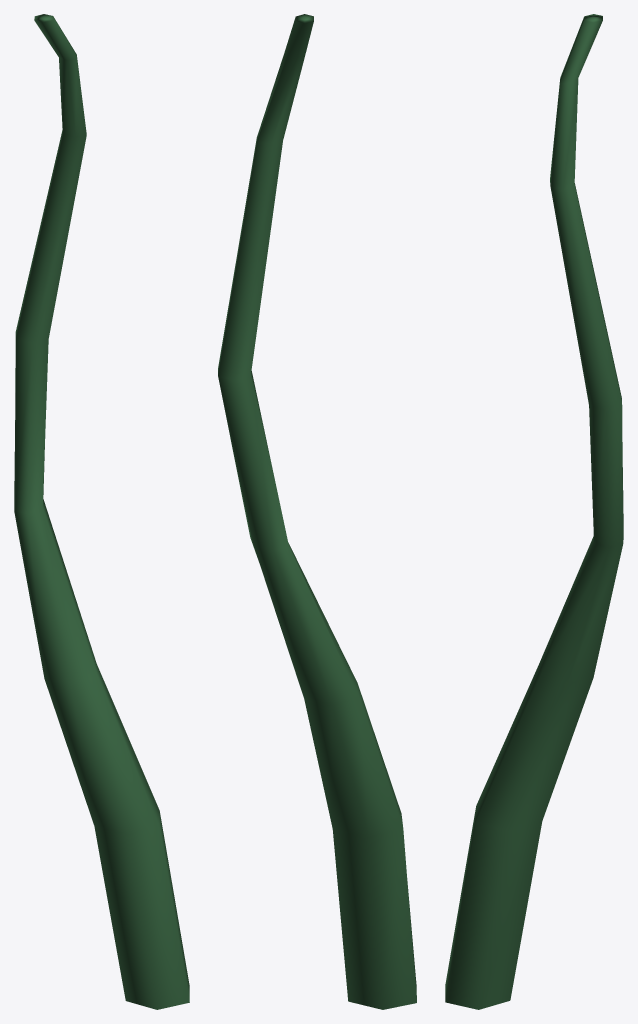
Rendered from StemB.fbx.
The picture shows the model from 3 angles, left to right: view 1: azimuth 90°, elevation 25°; view 2: azimuth 150°, elevation 25°; view 3: azimuth 270°, elevation 25°; orthographic projection. The views are drawn at different scales.
Parts seen in each view (by area): view 1: StemB; view 2: StemB; view 3: StemB.
Part boxes in pixels (left/top/right/bottom): StemB: left=14, top=14, right=189, bottom=1009; StemB: left=218, top=14, right=416, bottom=1009; StemB: left=445, top=14, right=623, bottom=1009.
Bounding box in the file's own units: 0.0565 × 0.4059 × 0.0667.
